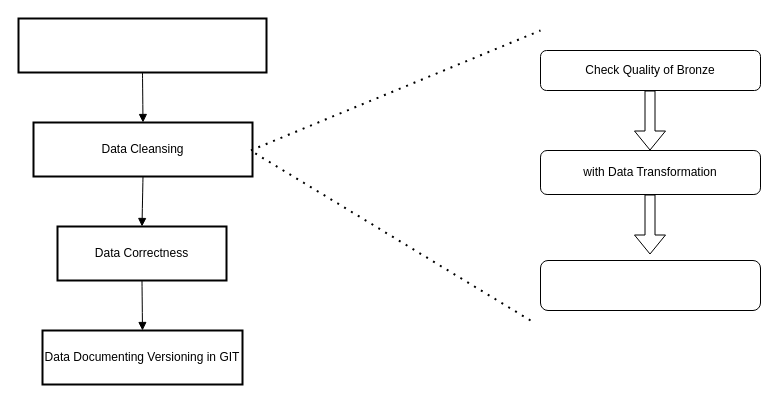
The diagram is 778 pixels wide and 402 high, and some of its shapes have lost their labels. Here are the shapes that lost their labels. From the top down, the centre of each, then its label:
At (x=142, y=45): "explore & Understanding the Data".
At (x=650, y=285): "Insert into Silver".
